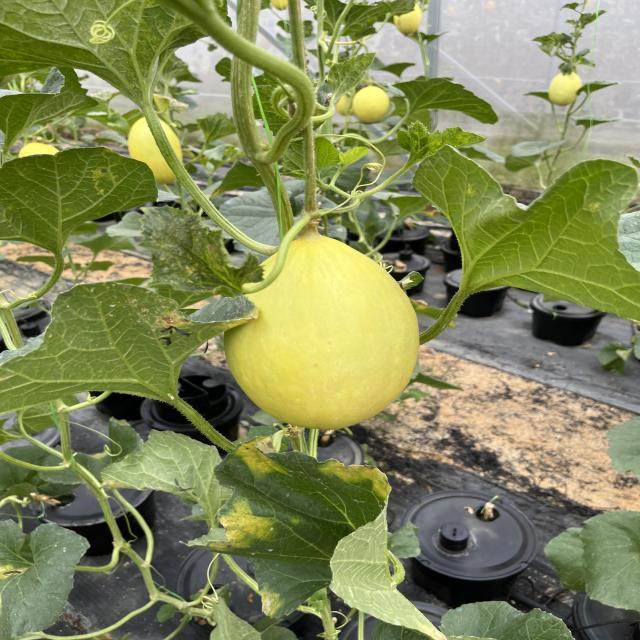CMV: (395, 120, 490, 153), (325, 53, 378, 98)
alternaria leaf blight: (0, 276, 255, 417), (0, 147, 162, 262)
downy mildew: (197, 432, 441, 638), (404, 143, 640, 322), (2, 0, 218, 107), (0, 518, 92, 639)
